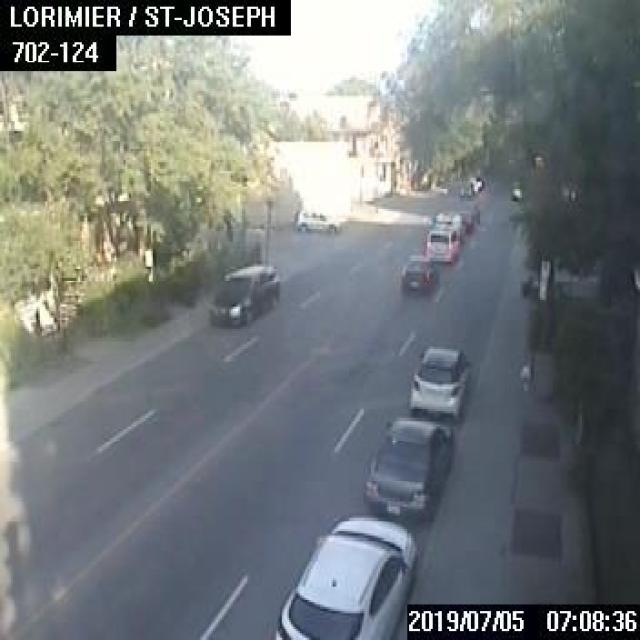vehicle: (273, 515, 416, 638), (364, 416, 452, 514), (206, 263, 279, 327), (410, 343, 466, 416), (400, 253, 436, 293), (424, 227, 458, 262), (294, 207, 336, 231), (434, 210, 463, 241), (456, 202, 478, 231), (458, 179, 472, 195)
